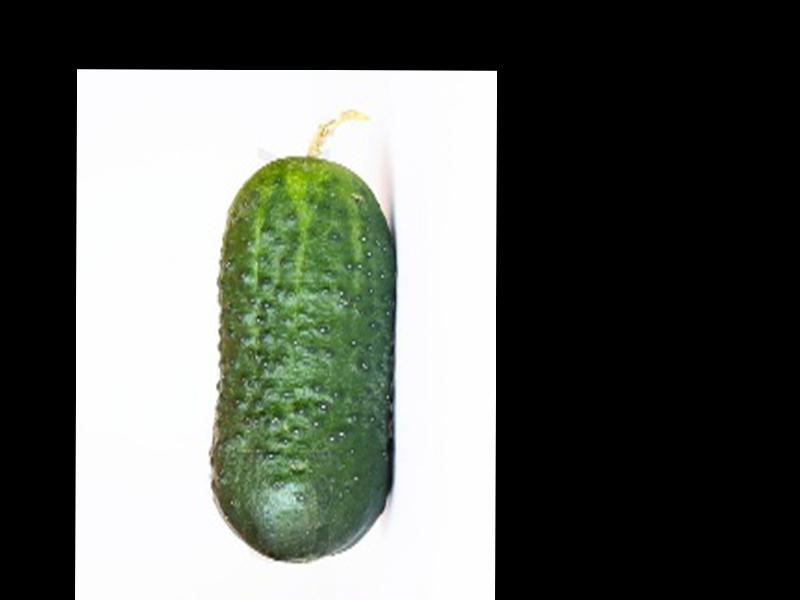Cucumber: (207, 108, 397, 560)
